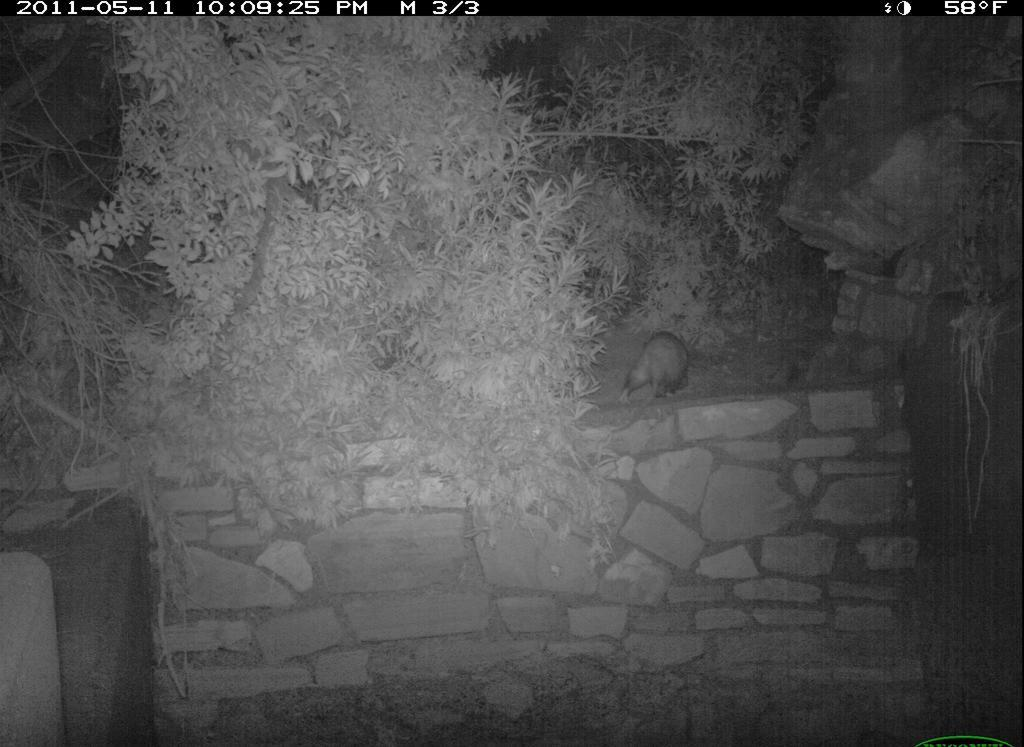opossum: (620, 322, 706, 406)
